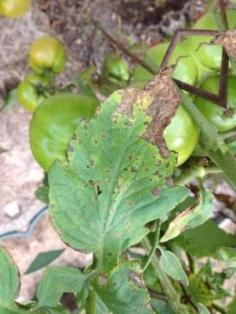Tomato leaf bacterial spot: (10, 54, 236, 279)
